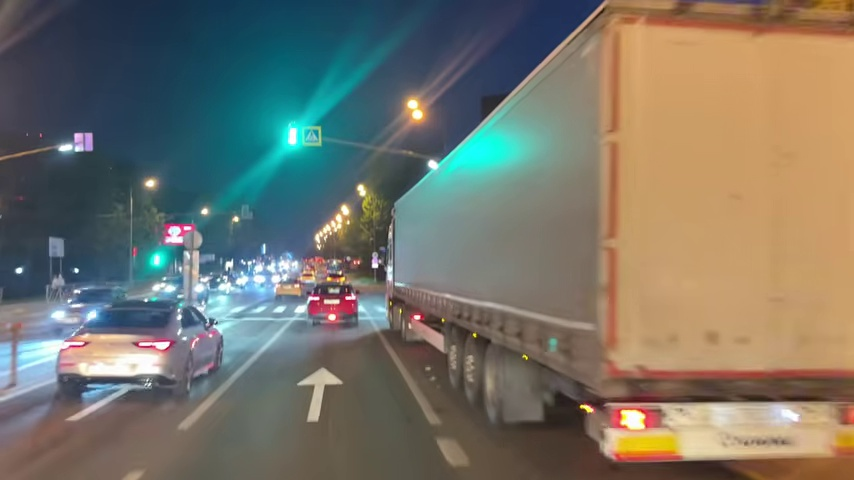acesa: (403, 97, 428, 125), (141, 176, 159, 192), (355, 183, 371, 199), (198, 205, 211, 219)
